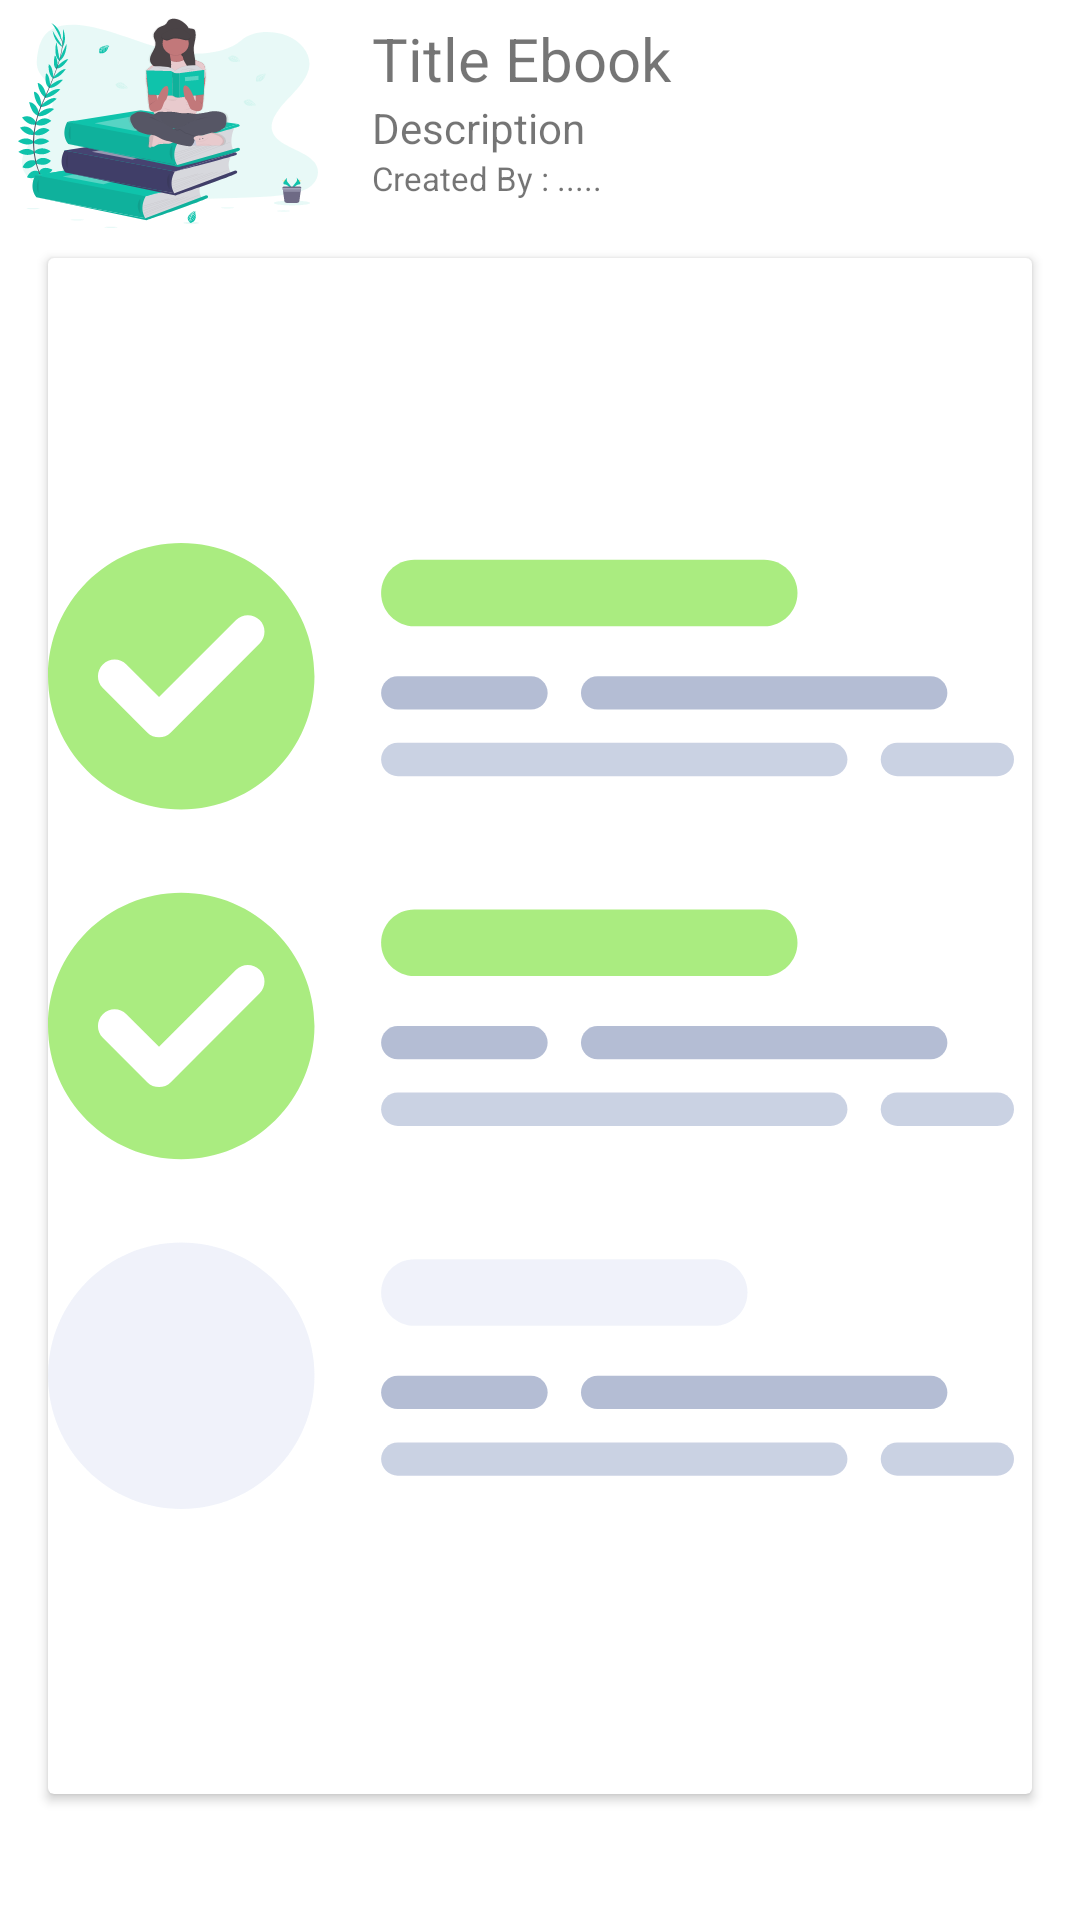

Named icons in this screenshot (1080 x 1920) and their bounding boxes, (x1, y1, x2, y2):
reading: (18, 18, 318, 228)
